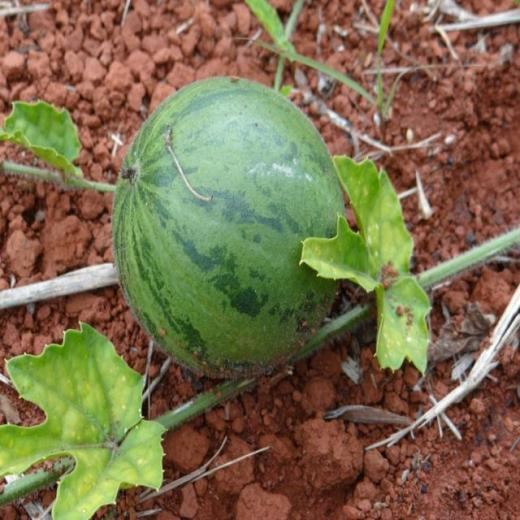Cherry: (113, 76, 344, 384)
